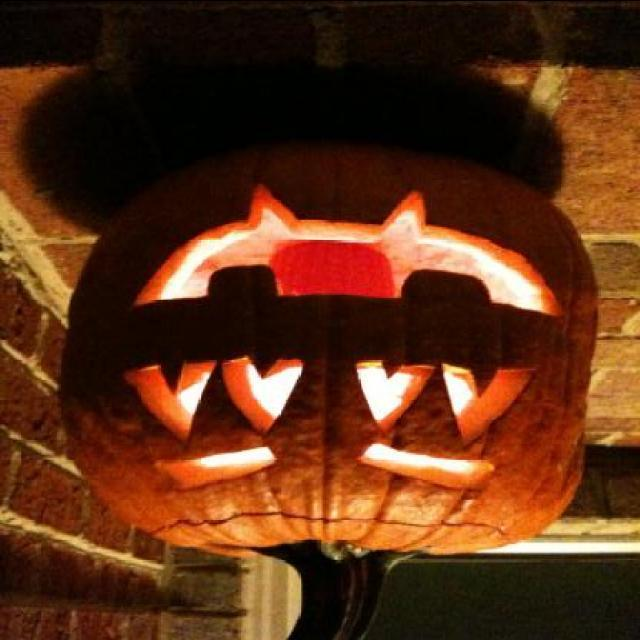Pumpkin: (31, 160, 602, 582)
